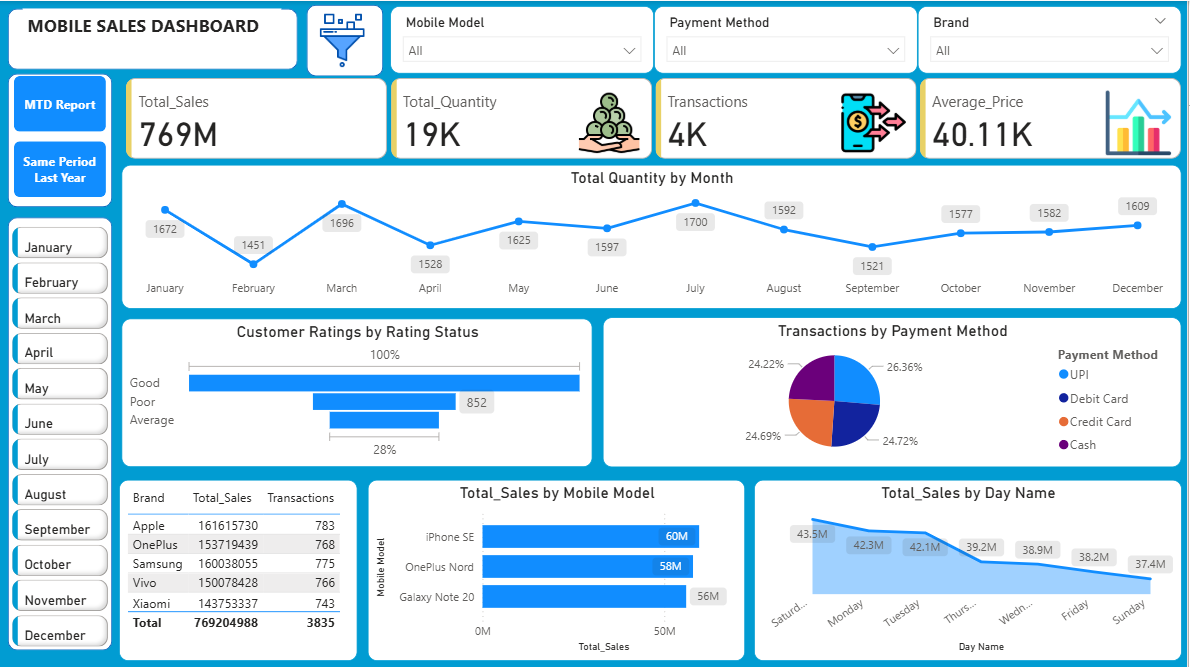

What the dashboard file says about the page in this screenshot:
{"tool":"powerbi","page":{"name":"Dashboard","canvas":[1280,720],"ordinal":0},"visuals":[{"type":"shape","box":[9.6,78.2,112.5,144.1],"z":0},{"type":"shape","box":[9.6,233.3,112.5,466.6],"z":1000},{"type":"advancedSlicerVisual","fields":{"Values":["Custom_Calender.Date.Variation.Date Hierarchy.Month"]},"box":[9.4,238.3,113.1,472.5],"z":2000},{"type":"cardVisual","fields":{"Data":["Sales_Data.Total_Sales","Sales_Data.Total_Quantity","Sales_Data.Transactions","Sales_Data.Average_Price"]},"box":[132.3,78.6,1148,97.8],"z":3000},{"type":"slicer","fields":{"Values":["Sales_Data.Mobile Model"]},"box":[421.3,5.5,284,72.7],"z":4000},{"type":"slicer","fields":{"Values":["Sales_Data.Payment Method"]},"box":[705.3,5.5,284,72.7],"z":5000},{"type":"slicer","fields":{"Values":["Sales_Data.Brand"]},"box":[989.4,5.5,284,72.7],"z":6000},{"type":"shape","box":[330.8,4.1,82.7,77.2],"z":7000},{"type":"image","box":[330.8,8.3,77.2,68.9],"z":8000},{"type":"shape","box":[9.4,8.1,312.3,66],"z":9000},{"type":"textbox","box":[25.6,8.1,278.7,57.9],"z":10000},{"type":"lineChart","title":"Total Quantity by Month","fields":{"Category":["Custom_Calender.Date.Variation.Date Hierarchy.Month"],"Y":["Sales_Data.Total_Quantity"]},"box":[131.9,176.4,1141.6,154.8],"z":11000},{"type":"funnel","title":"Customer Ratings by Rating Status","fields":{"Category":["Sales_Data.Ratin Status"],"Y":["CountNonNull(Sales_Data.Customer Ratings)"]},"box":[131.9,341.9,507.5,160.2],"z":12000},{"type":"pieChart","fields":{"Category":["Sales_Data.Payment Method"],"Y":["Sales_Data.Transactions"]},"box":[650.2,340.6,623.3,161.5],"z":13000},{"type":"clusteredBarChart","fields":{"Y":["Sales_Data.Total_Sales"],"Category":["Sales_Data.Mobile Model"]},"box":[397.1,515.6,406.6,195.2],"z":14000},{"type":"areaChart","fields":{"Y":["Sales_Data.Total_Sales"],"Category":["Custom_Calender.Day Name"]},"box":[813.1,515.6,460.4,195.2],"z":15000},{"type":"tableEx","fields":{"Values":["Sales_Data.Brand","Sales_Data.Total_Sales","Sales_Data.Transactions"]},"box":[129.2,515.6,257.1,195.2],"z":16000},{"type":"pageNavigator","box":[16.2,80.8,99.6,130.6],"z":17000}]}

Visuals, with their boxes in screenshot pixels (x1, y1, x2, y2), scaled from the page's 1280x720 canvas onto the 1190x667 screenshot:
shape: box(9, 72, 114, 206)
shape: box(9, 216, 114, 648)
advancedSlicerVisual - Custom_Calender.Date.Variation.Date Hierarchy.Month: box(9, 221, 114, 658)
cardVisual - Sales_Data.Total_Sales x Sales_Data.Total_Quantity: box(123, 73, 1189, 163)
slicer - Sales_Data.Mobile Model: box(392, 5, 656, 72)
slicer - Sales_Data.Payment Method: box(656, 5, 920, 72)
slicer - Sales_Data.Brand: box(920, 5, 1184, 72)
shape: box(308, 4, 384, 75)
image: box(308, 8, 379, 72)
shape: box(9, 8, 299, 69)
textbox: box(24, 8, 283, 61)
"Total Quantity by Month" lineChart: box(123, 163, 1184, 307)
"Customer Ratings by Rating Status" funnel: box(123, 317, 594, 465)
pieChart - Sales_Data.Payment Method x Sales_Data.Transactions: box(604, 316, 1184, 465)
clusteredBarChart - Sales_Data.Total_Sales x Sales_Data.Mobile Model: box(369, 478, 747, 658)
areaChart - Sales_Data.Total_Sales x Custom_Calender.Day Name: box(756, 478, 1184, 658)
tableEx - Sales_Data.Brand x Sales_Data.Total_Sales: box(120, 478, 359, 658)
pageNavigator: box(15, 75, 108, 196)
